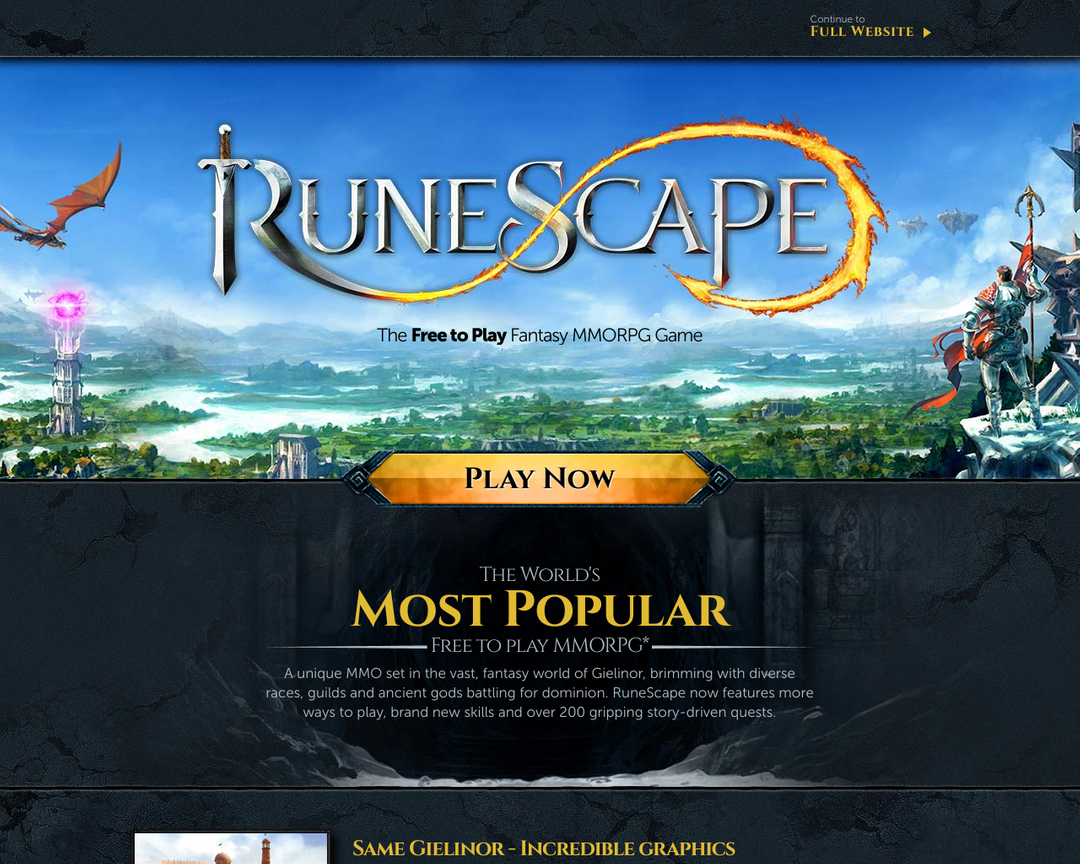Runescape: (406, 233, 540, 297), (548, 237, 665, 296)
